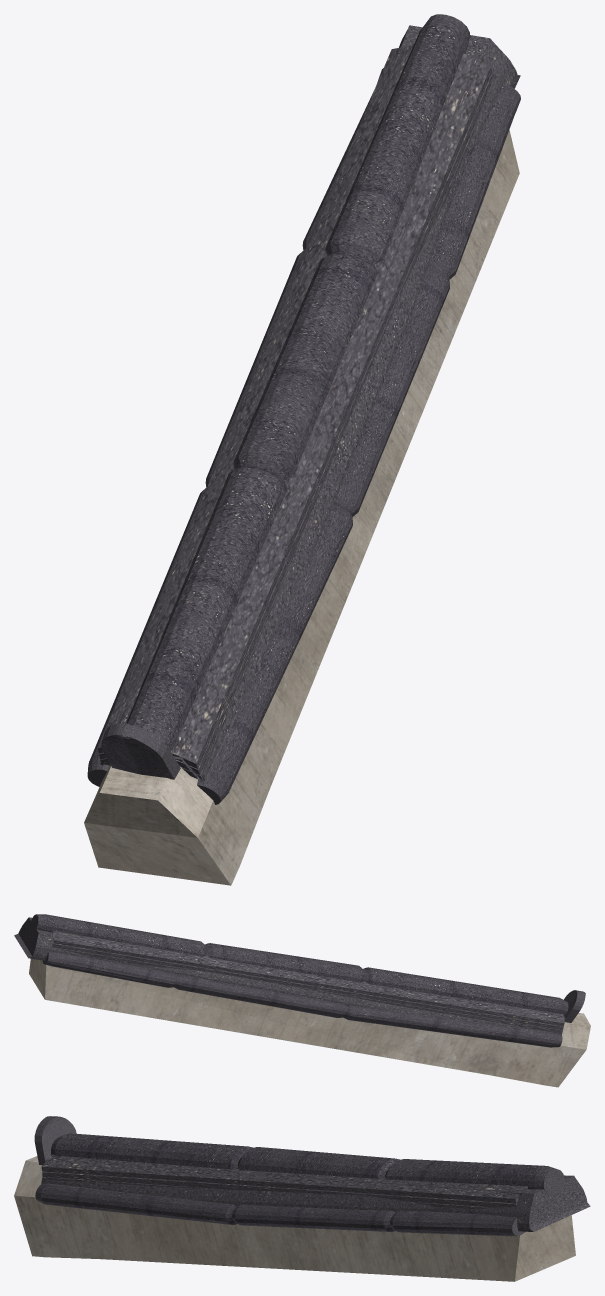
Rendered from SM_R_BeamRoof_1.fbx.
3 renders of one model, top to bottom at view 1: azimuth 30°, elevation 25°; view 2: azimuth 150°, elevation 25°; view 3: azimuth 270°, elevation 25°, orthographic. The views are drawn at different scales.
Parts seen in each view (by area): view 1: SM_R_BeamRoof_1; view 2: SM_R_BeamRoof_1; view 3: SM_R_BeamRoof_1.
Part boxes in pixels (bbox=[...]): SM_R_BeamRoof_1: bbox=[84, 14, 520, 885]; SM_R_BeamRoof_1: bbox=[14, 914, 590, 1087]; SM_R_BeamRoof_1: bbox=[14, 1116, 590, 1281].
Size of the model in its own units: 229 by 221 by 119.
2 materials, 2 textured.
